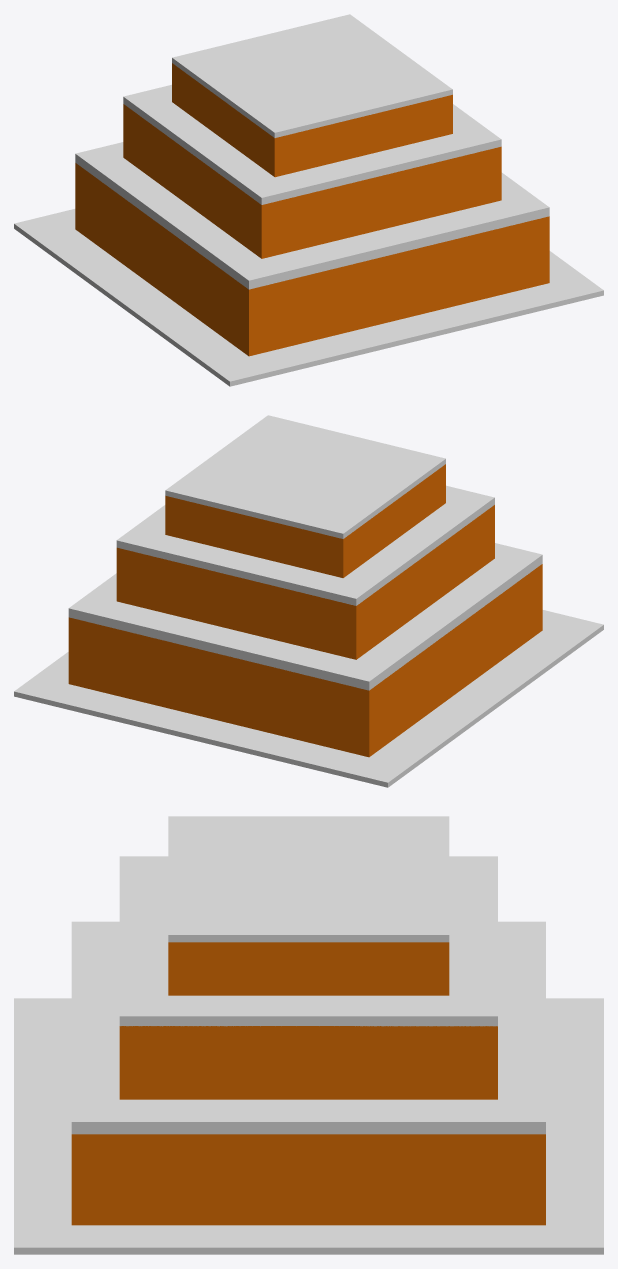
Rendered from CAKE C 3 layers.glb.
3 views of the same model, one above another, from view 1: azimuth 30°, elevation 25°; view 2: azimuth 150°, elevation 25°; view 3: azimuth 270°, elevation 25° (orthographic). The views are drawn at different scales.
Parts seen in each view (by area): view 1: base bot 3, base bot 2, base top 1, plate 3, base top 3, base top 2, base bot 1; view 2: base bot 3, base bot 2, plate 3, base top 1, base top 3, base top 2, base bot 1; view 3: plate 3, base bot 3, base top 1, base top 3, base bot 2, base top 2, base bot 1.
Boxes of the visible parts, box(x1,y1,x2,y2) form: base bot 3: box(75, 163, 549, 356); base bot 2: box(123, 104, 501, 258); base top 1: box(172, 14, 452, 137); plate 3: box(14, 209, 603, 386); base top 3: box(75, 142, 549, 289); base top 2: box(123, 84, 501, 204); base bot 1: box(172, 63, 452, 177); base bot 3: box(68, 564, 542, 757); base bot 2: box(116, 505, 494, 659); plate 3: box(14, 610, 603, 787); base top 1: box(165, 415, 445, 538); base top 3: box(68, 543, 542, 690); base top 2: box(116, 485, 494, 605); base bot 1: box(165, 464, 445, 577); plate 3: box(14, 998, 603, 1254); base bot 3: box(71, 1134, 545, 1225); base top 1: box(168, 816, 449, 942); base top 3: box(71, 921, 545, 1134); base bot 2: box(119, 1026, 497, 1099); base top 2: box(119, 856, 497, 1026); base bot 1: box(168, 942, 449, 995).
Size of the model in its own units: 2 by 0.9593 by 2.
